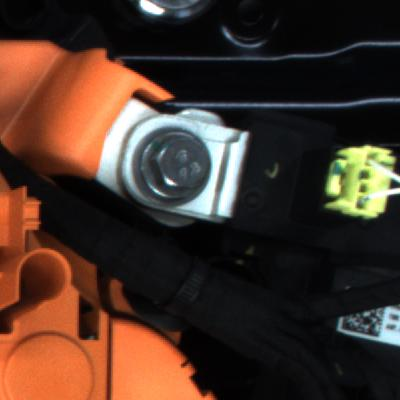nut_b: (132, 118, 219, 207)
